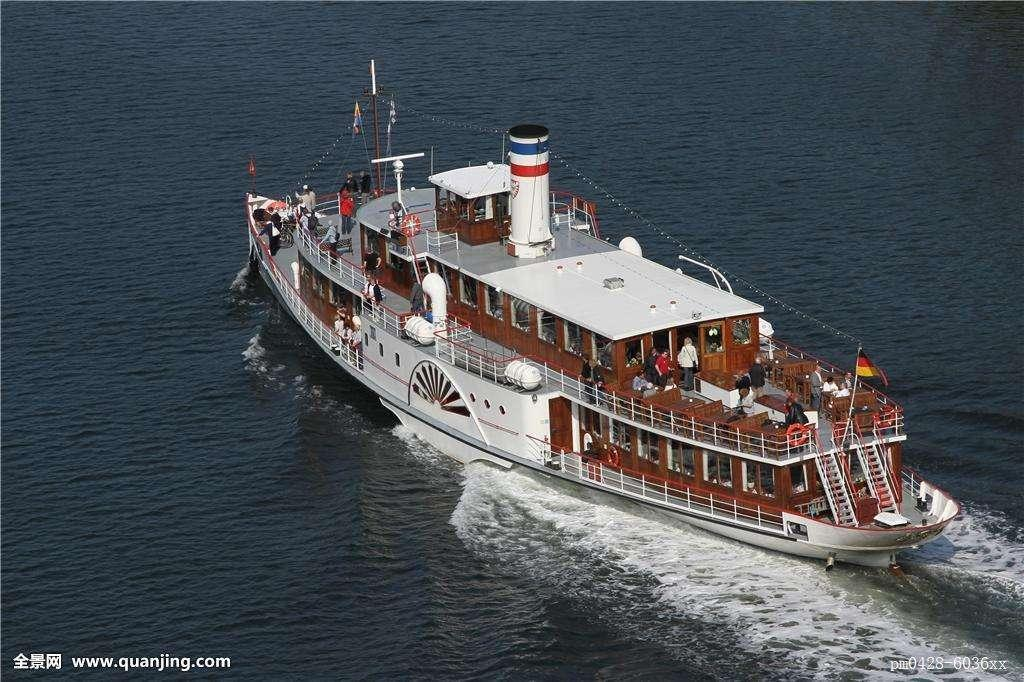otherboat: (235, 54, 965, 562)
